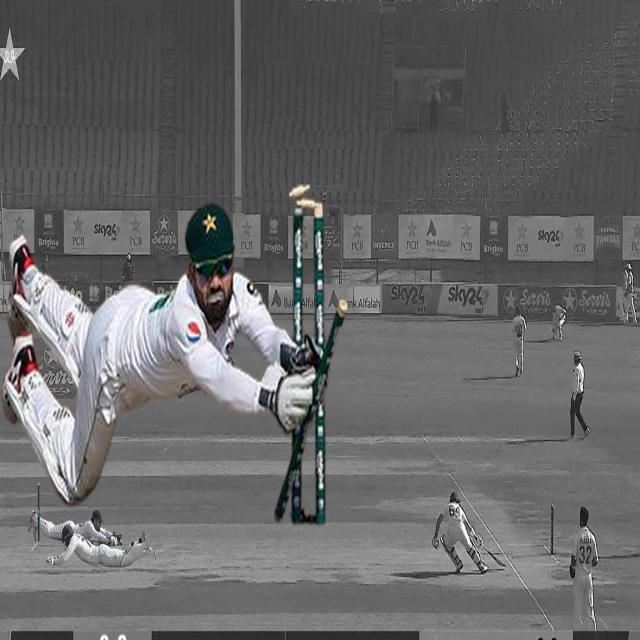stump: (275, 183, 349, 523), (549, 501, 556, 553), (37, 484, 41, 546)
